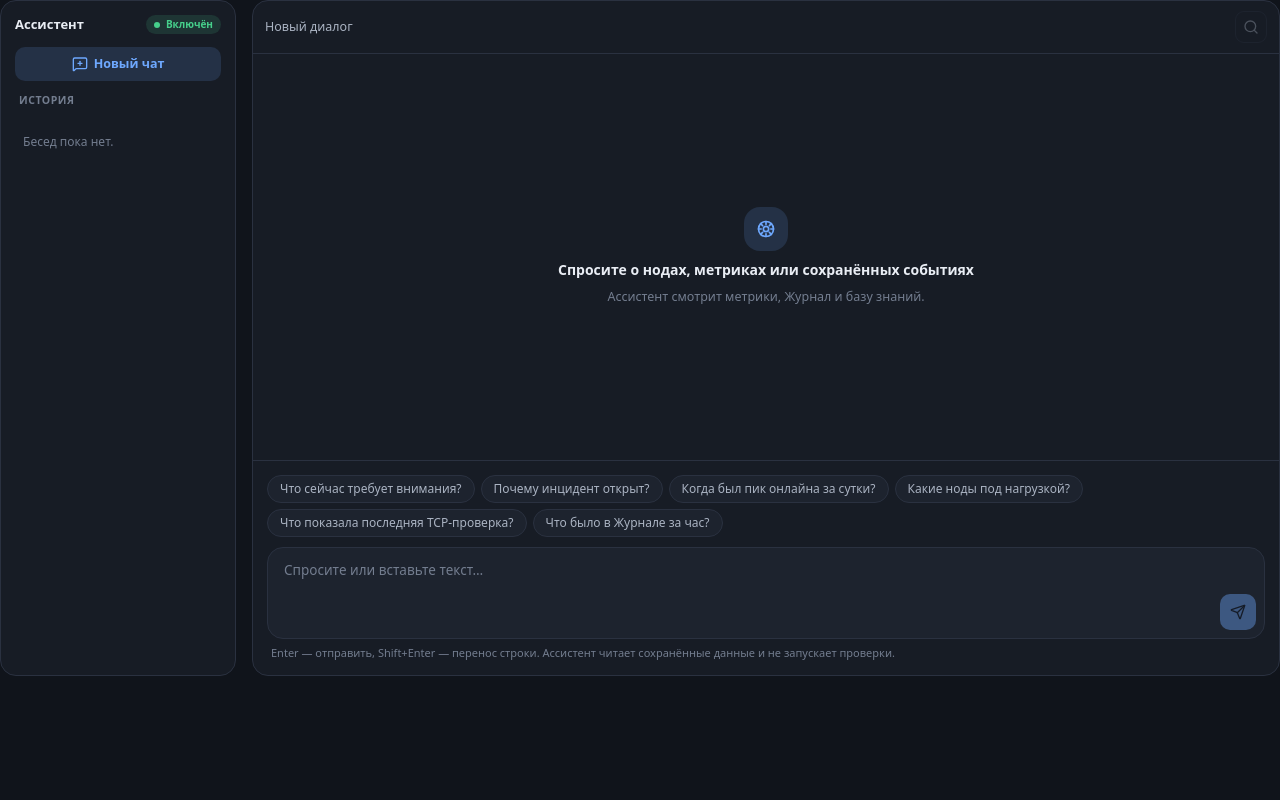
Test: AssistantPage › с ключом: сообщение получает ответ с цитатами и без карточек действий
In the text box named "Сообщение Ассистенту": (766, 570) [276,556,1256,586], type "Что с CPU?"
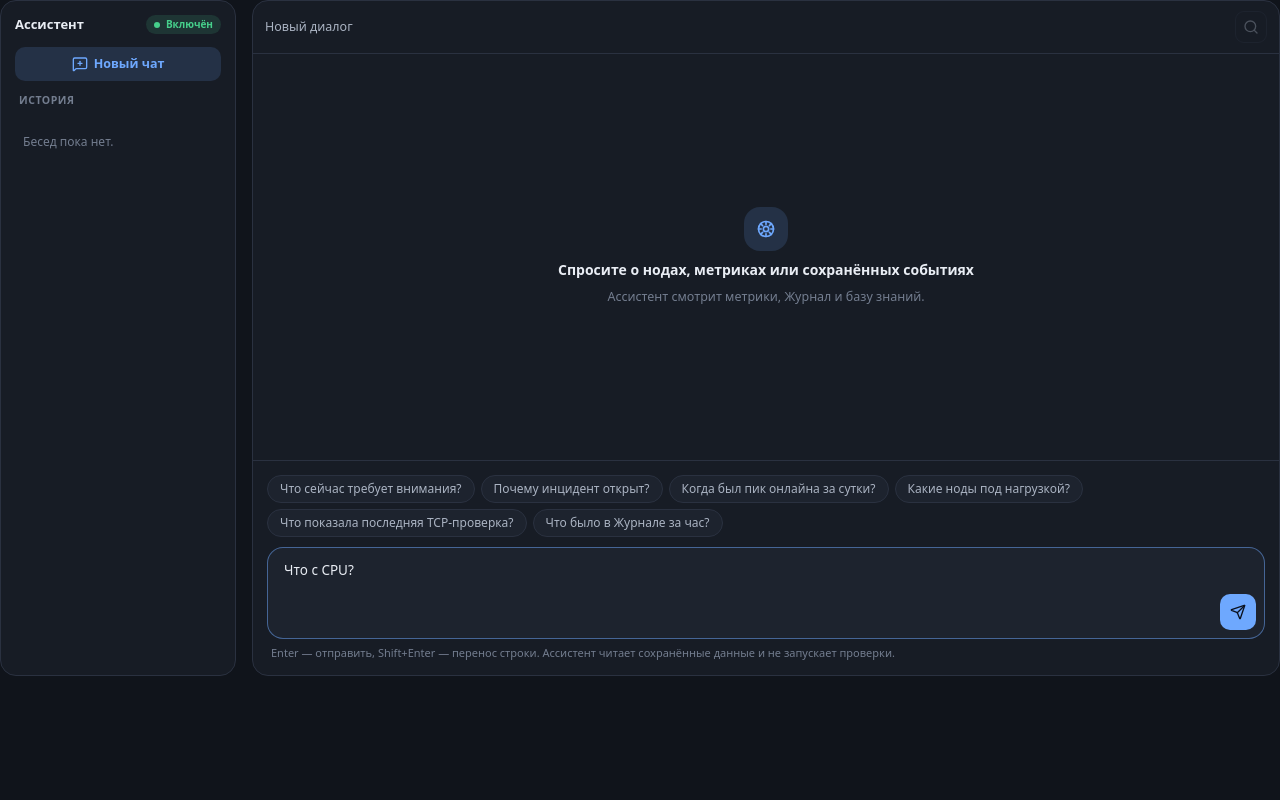
Click the button named "Отправить": click(1238, 612) [1220,594,1256,630]
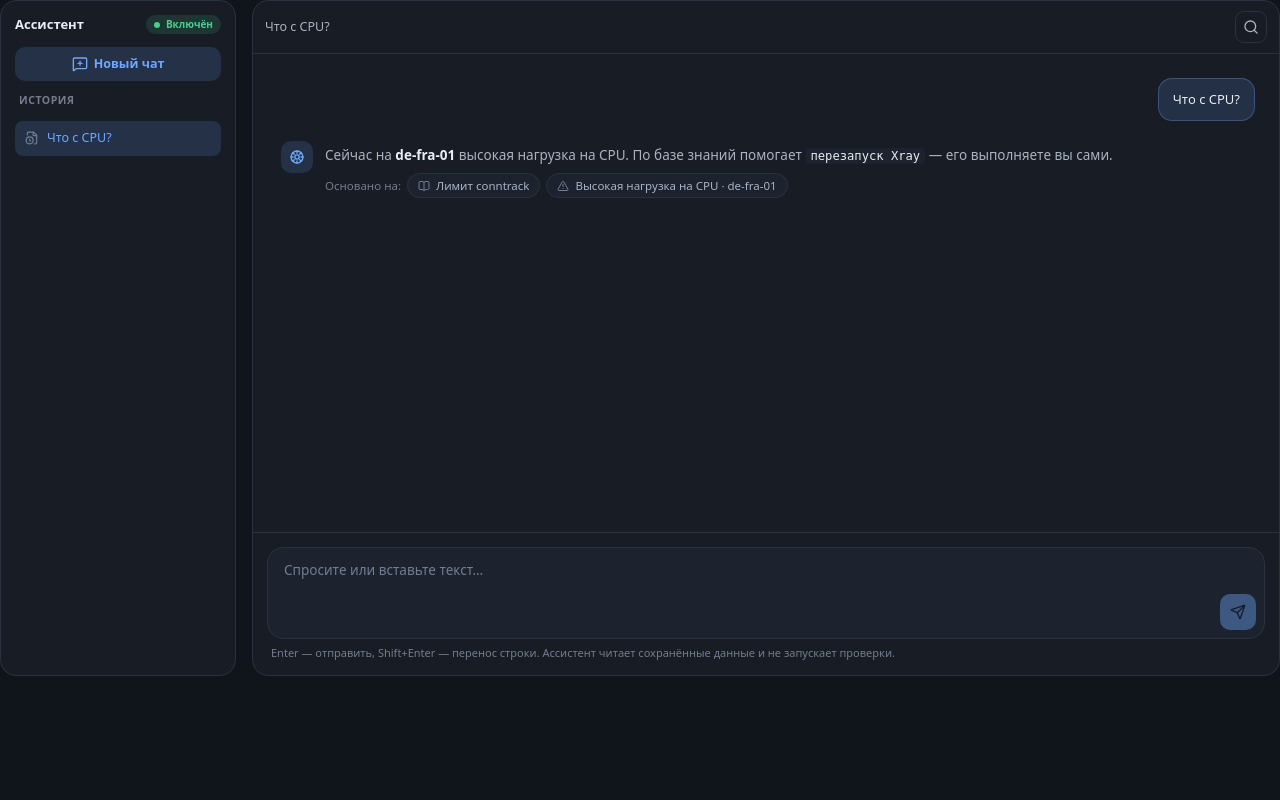
Now the text "высокая нагрузка на CPU" is shown, box [455,146,806,164]
